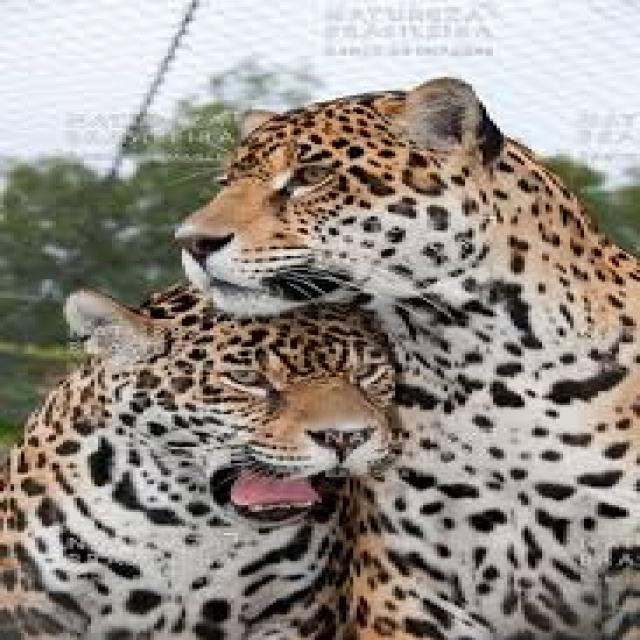Jaguar: (199, 79, 640, 635), (7, 274, 395, 640)
